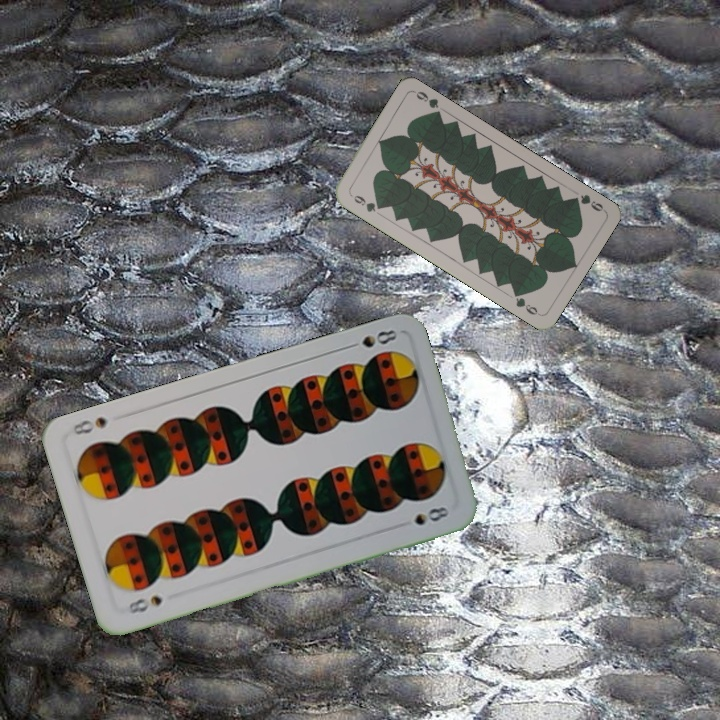G9: (346, 190, 385, 215), (567, 190, 607, 214)
S8: (342, 325, 400, 352), (120, 591, 165, 617)
